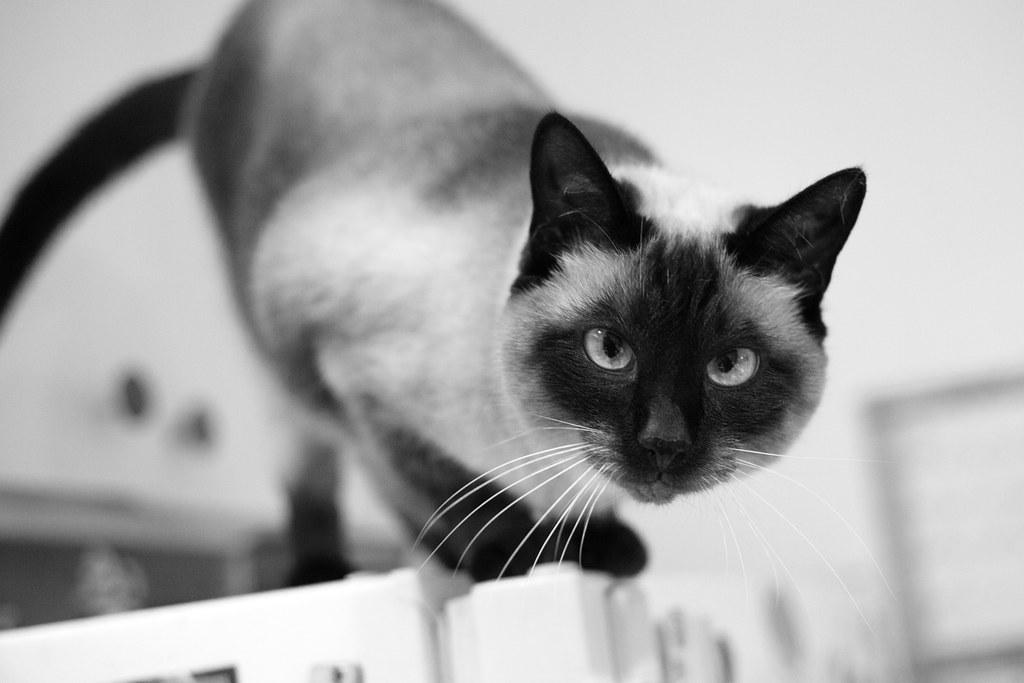cat: (1, 7, 884, 596)
cat-face: (453, 106, 881, 592)
